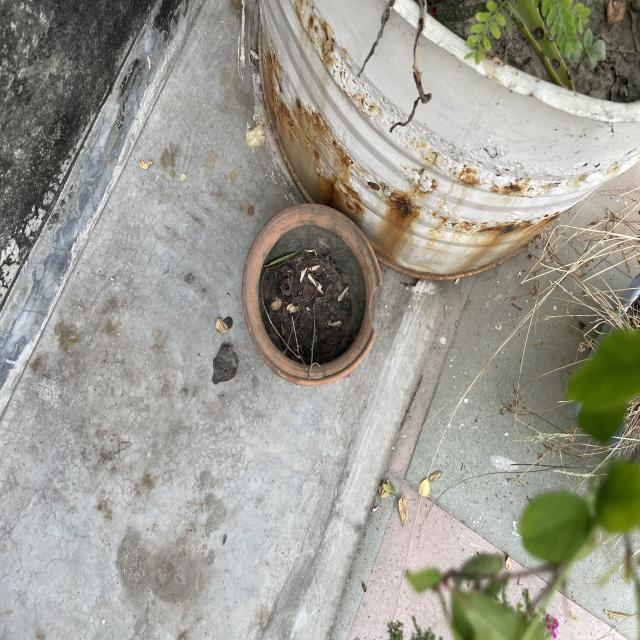Breeding Place: (250, 1, 640, 273), (248, 201, 383, 399)
